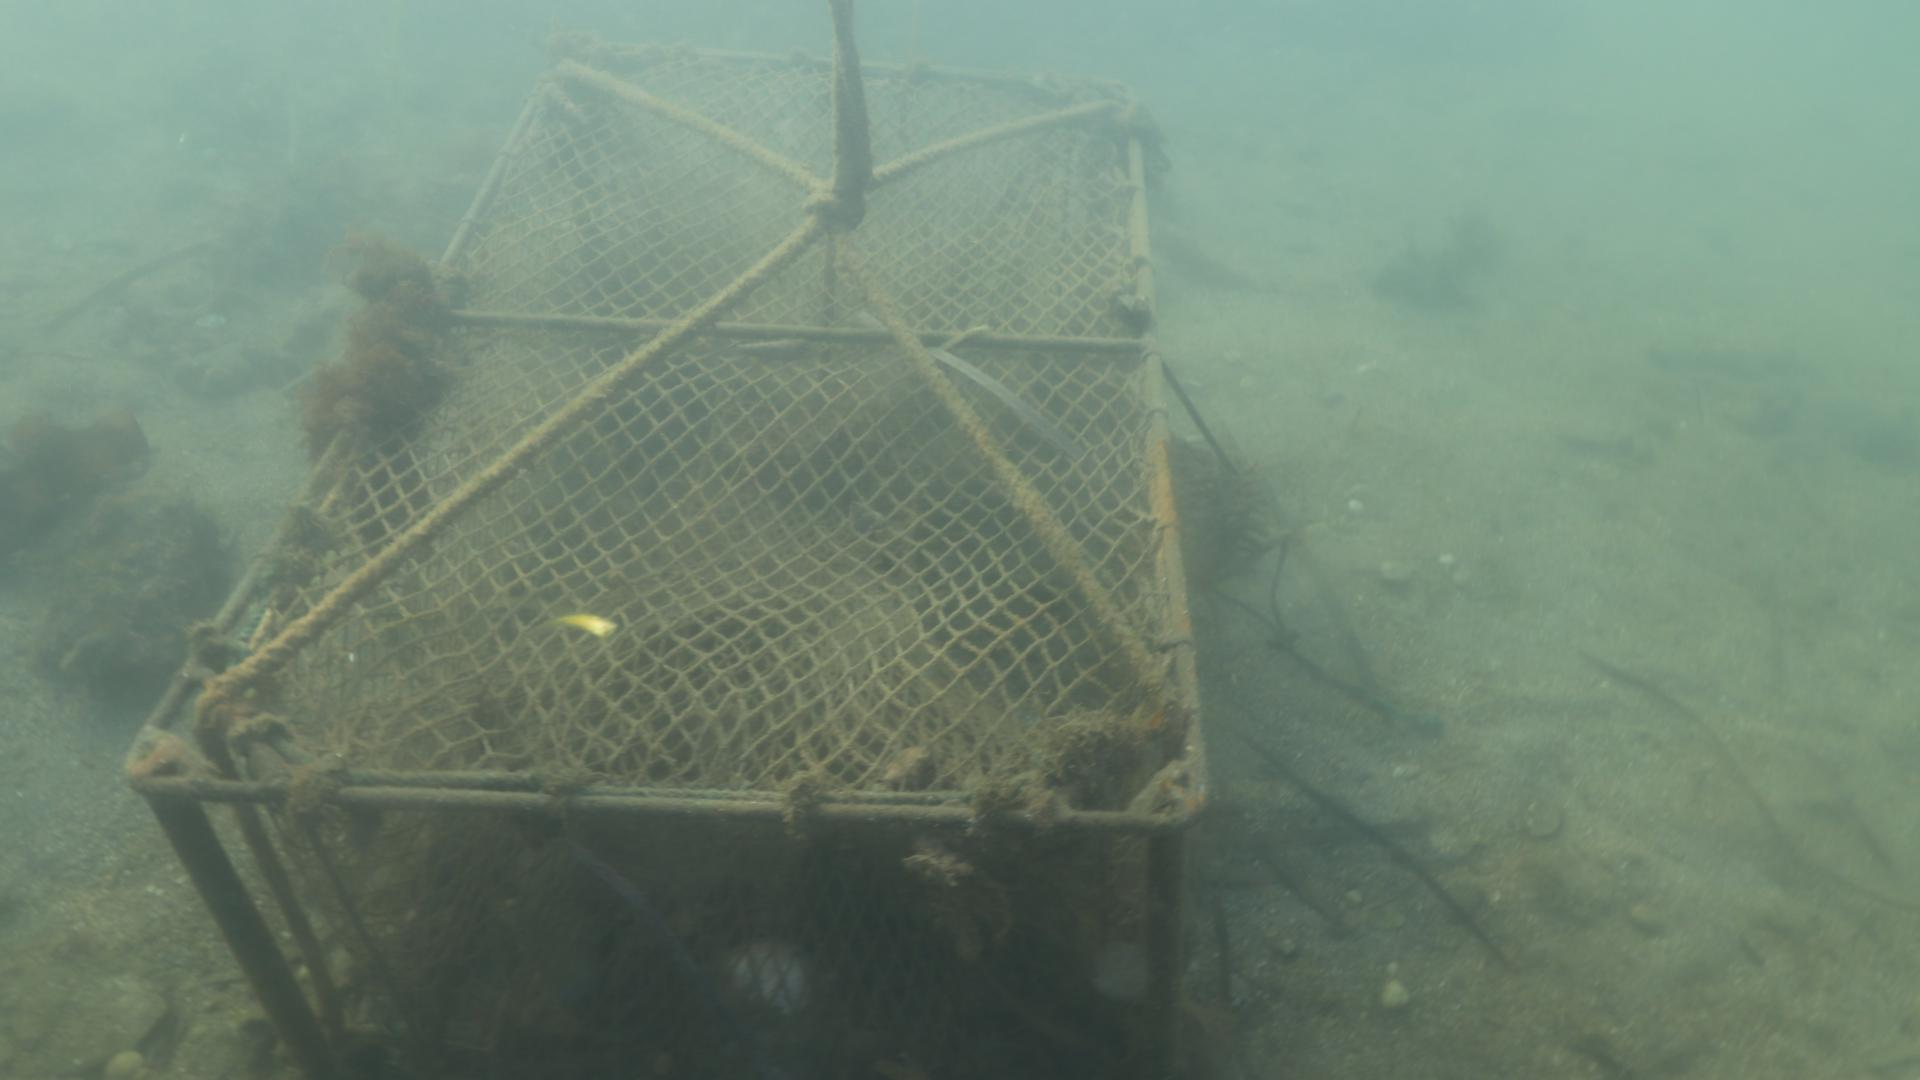bundle of ropes: (798, 0, 872, 232)
rectangular fish trap: (117, 40, 1211, 1080)
